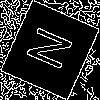N: (25, 24, 83, 76)
